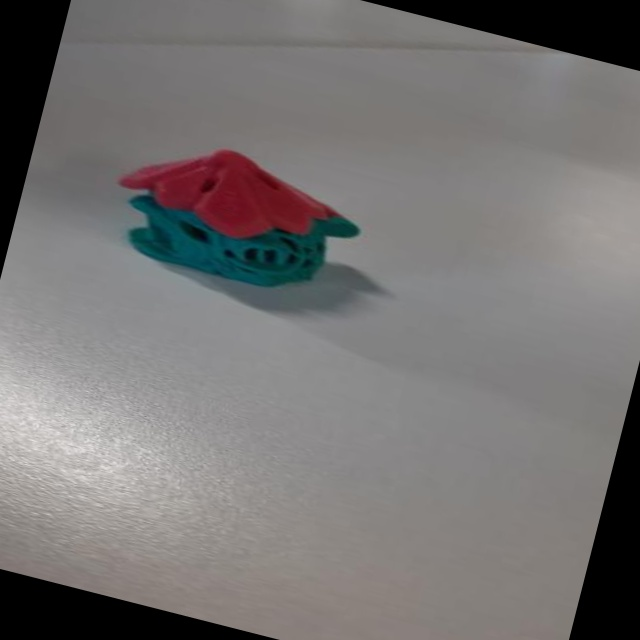House: (102, 121, 379, 326)
